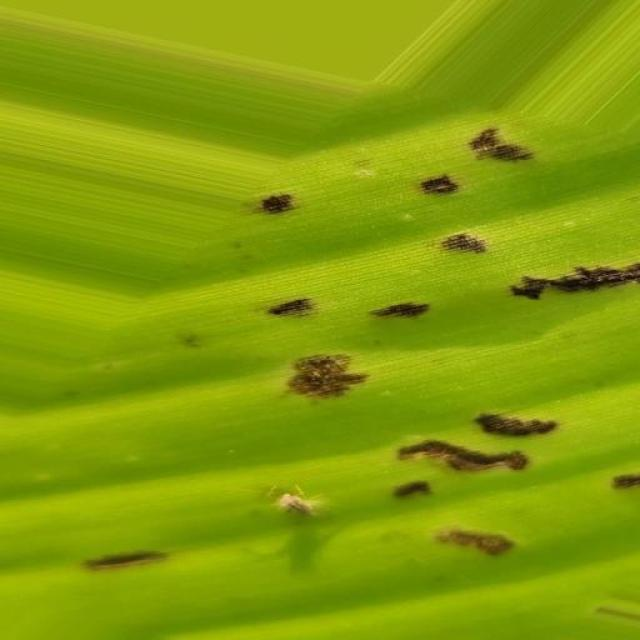Black_rot: (240, 113, 640, 609), (47, 520, 201, 600)
